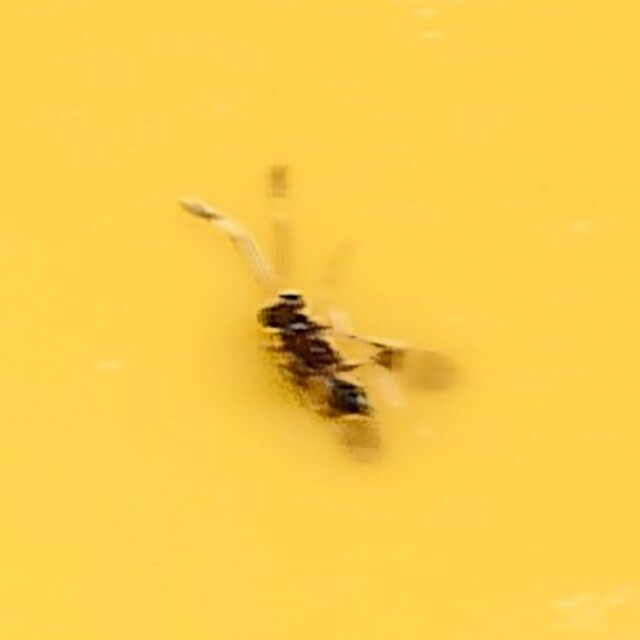Hymenoptera: (174, 170, 466, 470)
